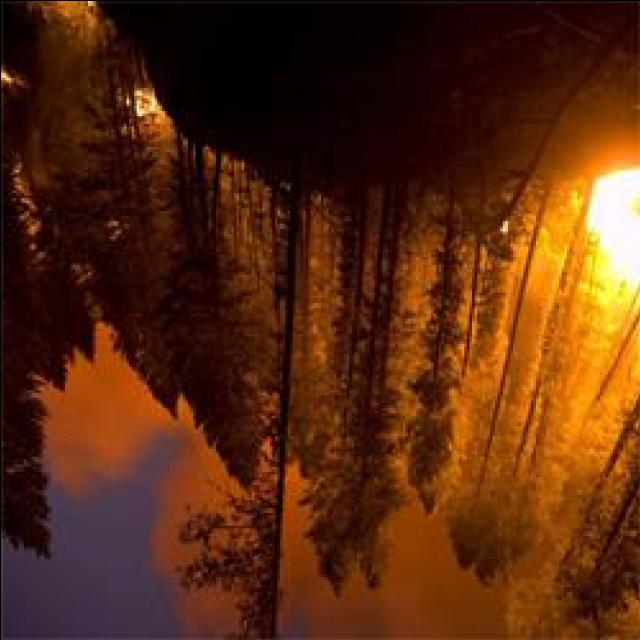fire: (586, 164, 640, 294)
smoke: (46, 371, 160, 488), (282, 592, 492, 640)
